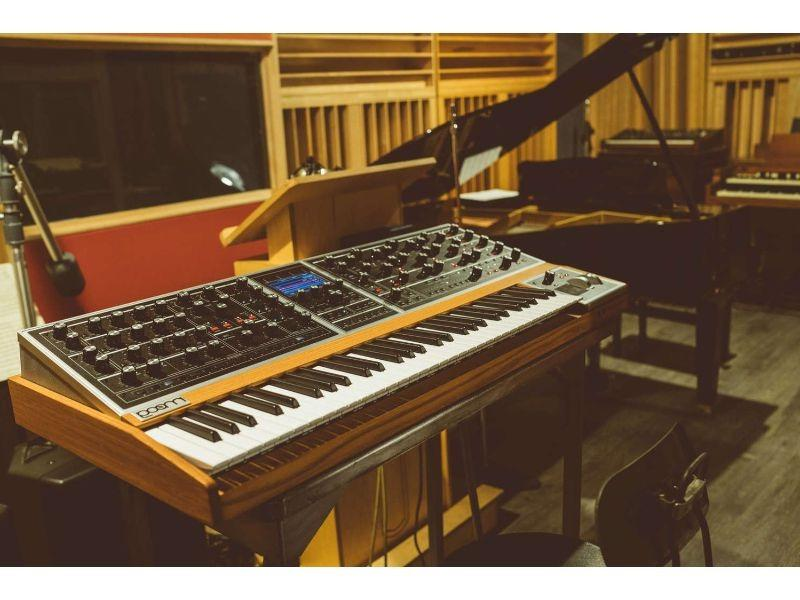synthesizer: (22, 244, 630, 499)
